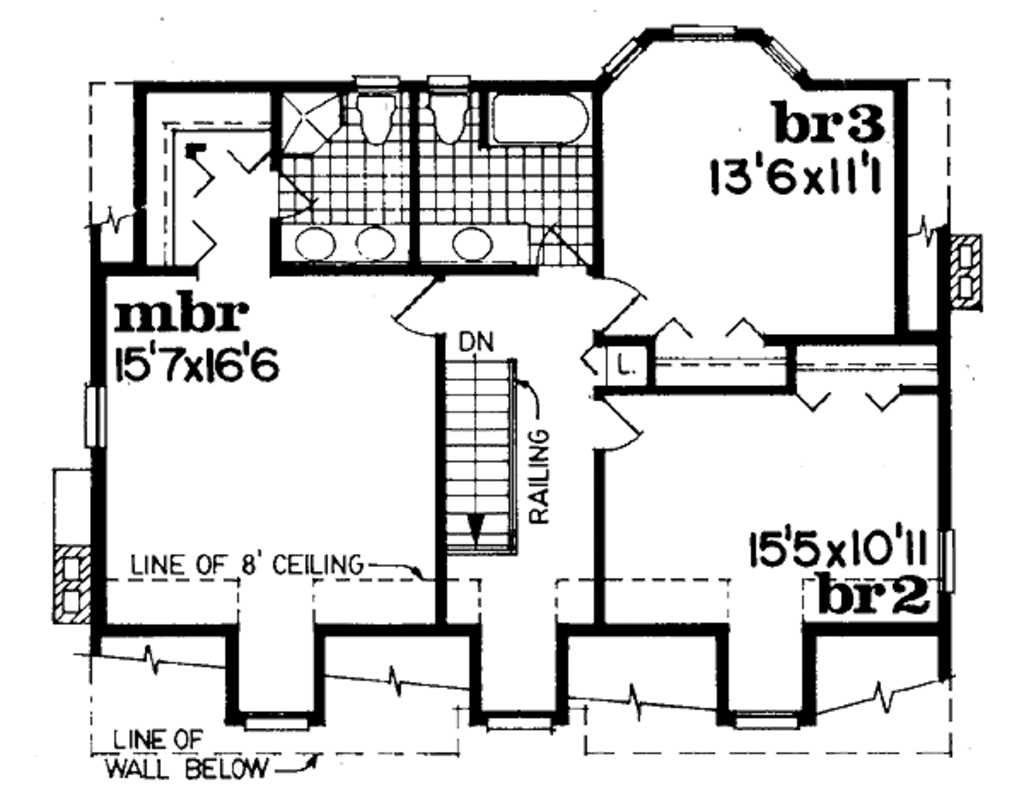door: (385, 279, 442, 343), (600, 386, 638, 461), (594, 282, 642, 332)
large_sink: (421, 95, 472, 147), (357, 87, 401, 144)
small_sink: (276, 219, 418, 272), (422, 219, 528, 267)
stairs: (440, 328, 523, 557)
tub: (485, 89, 598, 145)
windows: (596, 22, 808, 87), (220, 699, 308, 742), (477, 705, 554, 737), (721, 709, 807, 736), (85, 377, 112, 450), (935, 522, 960, 591)
